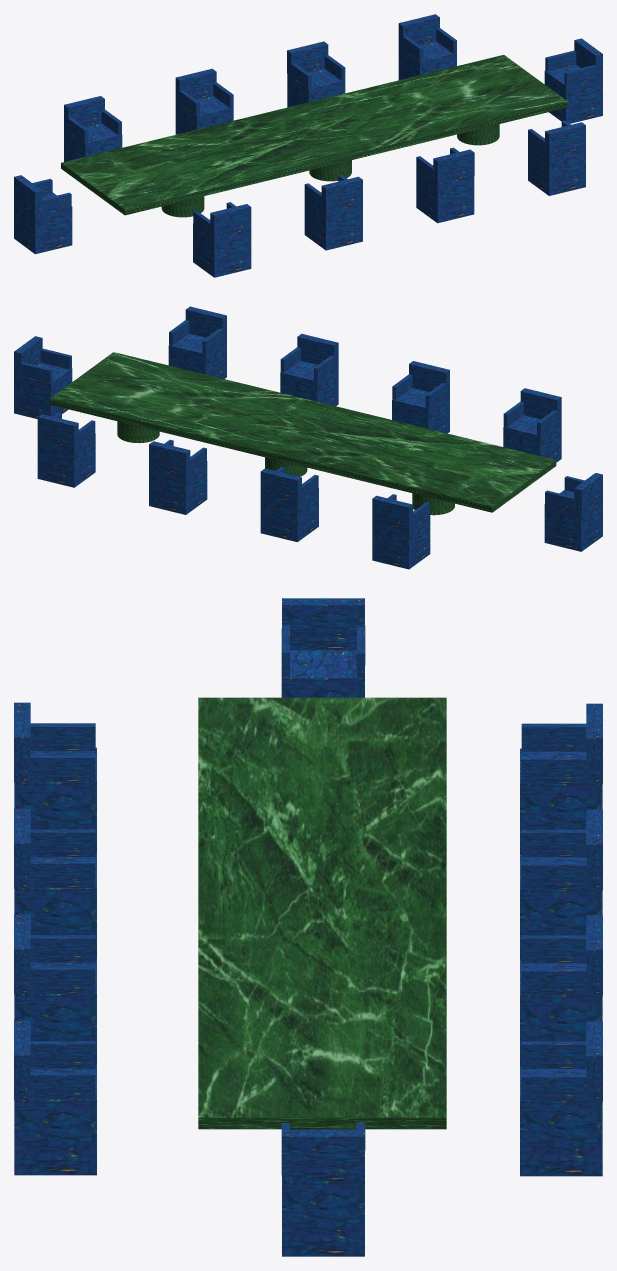
The model's file is dinning_table.dae.
3 renders of one model, top to bottom at view 1: azimuth 30°, elevation 25°; view 2: azimuth 150°, elevation 25°; view 3: azimuth 270°, elevation 25°, orthographic. The views are drawn at different scales.
Visible parts, largest first — view 1: Cube, Cube_001, Cube_002, Cube_009, Cube_008, Cylinder, Cube_011, Cube_006, Cube_005, Cube_007, Cube_010; view 2: Cube, Cube_002, Cube_001, Cube_009, Cube_008, Cylinder, Cube_011, Cube_006, Cube_007, Cube_005, Cube_012; view 3: Cube, Cube_002, Cube_001, Cube_008, Cube_006, Cube_011, Cube_009.
Part boxes in pixels (<box>): Cube: <box>61,55,567,215</box>; Cube_001: <box>193,120,585,277</box>; Cube_002: <box>64,14,456,161</box>; Cube_009: <box>14,192,72,254</box>; Cube_008: <box>544,64,602,123</box>; Cylinder: <box>161,124,499,217</box>; Cube_011: <box>14,175,42,215</box>; Cube_006: <box>574,38,602,78</box>; Cube_005: <box>564,65,596,85</box>; Cube_007: <box>545,50,576,71</box>; Cube_010: <box>42,192,71,213</box>; Cube: <box>49,352,556,512</box>; Cube_002: <box>37,412,430,569</box>; Cube_001: <box>168,306,561,462</box>; Cube_009: <box>544,490,602,551</box>; Cube_008: <box>14,362,72,418</box>; Cylinder: <box>117,421,454,515</box>; Cube_011: <box>574,473,602,513</box>; Cube_006: <box>14,336,42,376</box>; Cube_007: <box>20,362,52,383</box>; Cube_005: <box>40,348,71,369</box>; Cube_012: <box>545,490,574,511</box>; Cube: <box>198,697,446,1129</box>; Cube_002: <box>520,703,602,1176</box>; Cube_001: <box>14,702,96,1175</box>; Cube_008: <box>282,1181,364,1256</box>; Cube_006: <box>282,1129,364,1181</box>; Cube_011: <box>282,598,364,650</box>; Cube_009: <box>281,650,364,697</box>.
Bounding box in the file's own units: 30.77 × 14.22 × 3.24.
Materials: 18 (18 with a texture image).
